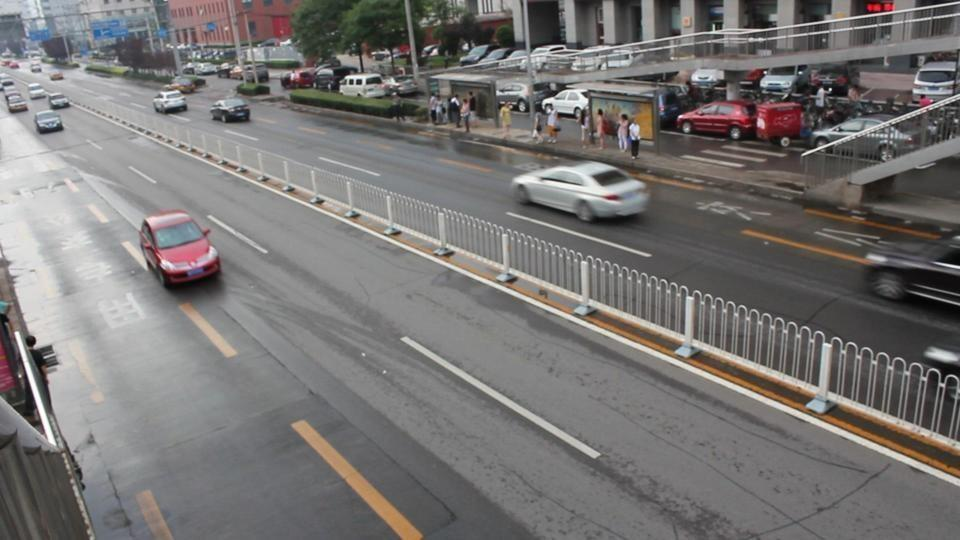car: (510, 158, 650, 224), (861, 228, 959, 307), (138, 208, 223, 287), (545, 82, 682, 129), (807, 117, 912, 158), (675, 102, 761, 140), (759, 64, 844, 100), (911, 54, 960, 106), (498, 80, 568, 114), (537, 89, 591, 119), (337, 74, 394, 99), (457, 44, 511, 68), (496, 83, 533, 114), (210, 97, 251, 124), (381, 75, 422, 97), (152, 91, 188, 114), (34, 111, 64, 134), (168, 77, 203, 94), (6, 95, 29, 113), (48, 94, 69, 110), (27, 84, 46, 99), (0, 77, 14, 92)
